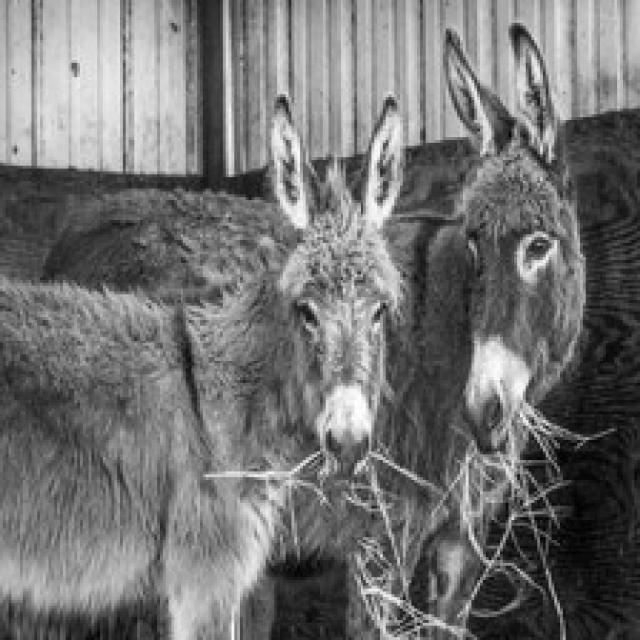Donkey: (0, 88, 411, 637), (252, 20, 588, 637), (434, 20, 637, 637)
